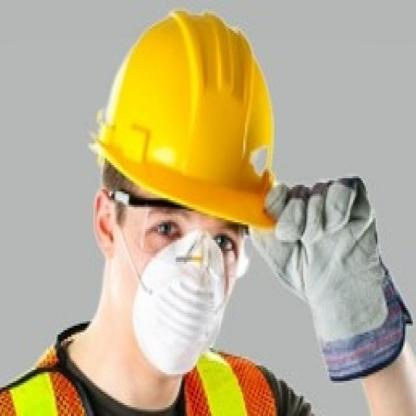capacete: (102, 0, 272, 196)
oculos: (123, 198, 251, 284)
